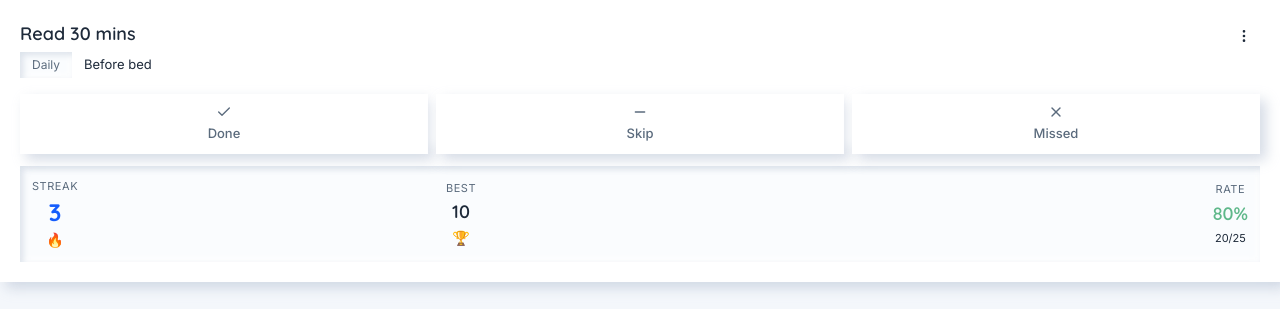
Test: HabitCard › menu toggle shows edit/delete buttons
Click the 1st button: (1244, 36) [1228,20,1260,52]
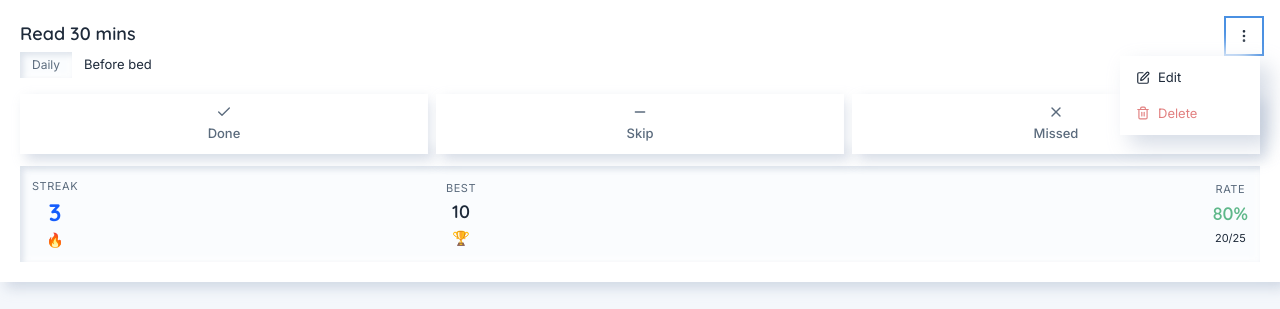
expect the button "Edit" is shown: met, box [1124,60,1256,96]
expect the button "Delete" is shown: met, box [1124,96,1256,131]
